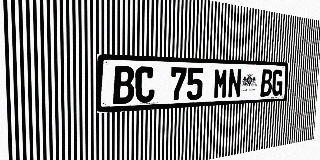5: (187, 67, 203, 100)
7: (169, 67, 187, 101)
B: (113, 66, 134, 104), (260, 69, 273, 97)
C: (135, 66, 155, 103)
G: (271, 69, 283, 96)
M: (213, 68, 228, 99)
N: (227, 68, 242, 98)
